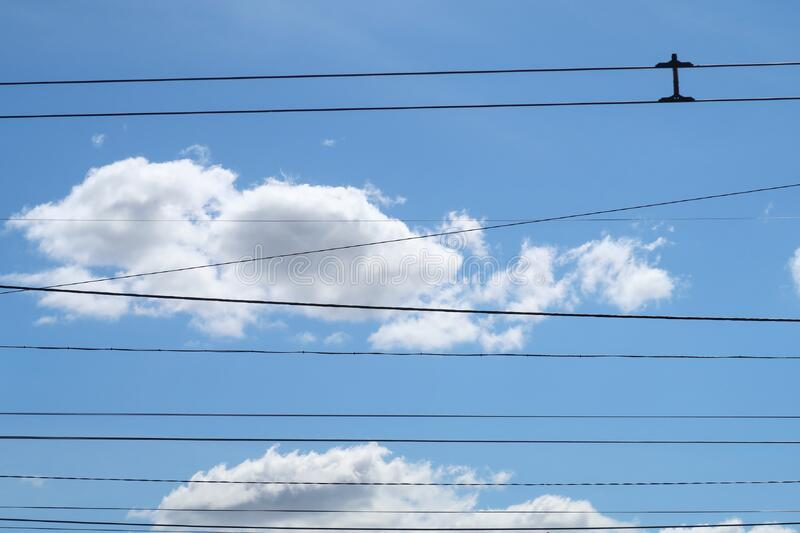wires: (1, 214, 800, 379), (3, 404, 800, 533), (2, 47, 800, 129)
